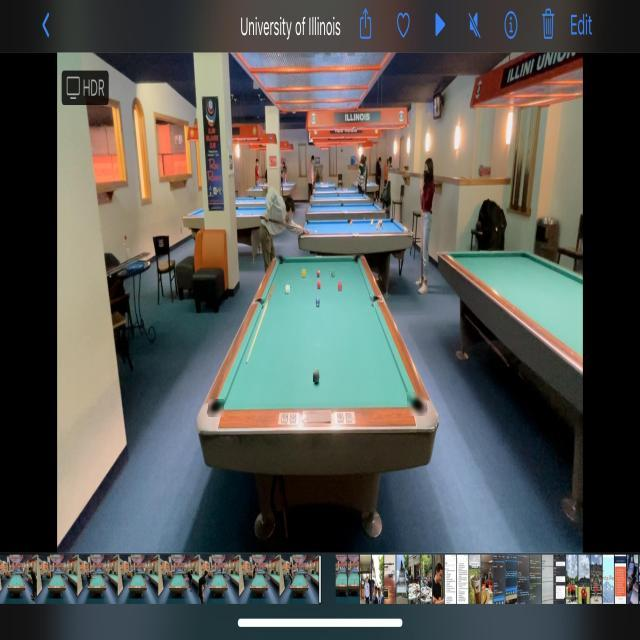Ball: (314, 370, 320, 382), (316, 297, 320, 307), (338, 282, 342, 292), (316, 269, 321, 277), (317, 280, 321, 289), (286, 285, 290, 293), (332, 270, 336, 278), (302, 269, 306, 277)
Pocket: (408, 392, 428, 416), (208, 400, 224, 418), (369, 295, 382, 307), (254, 296, 265, 308), (353, 253, 364, 264), (276, 254, 286, 264)
